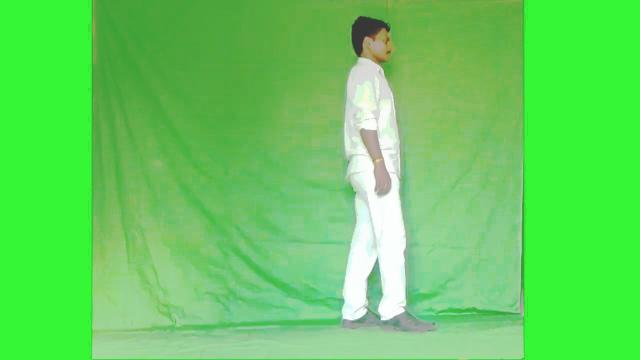berjalan: (337, 12, 441, 340)
